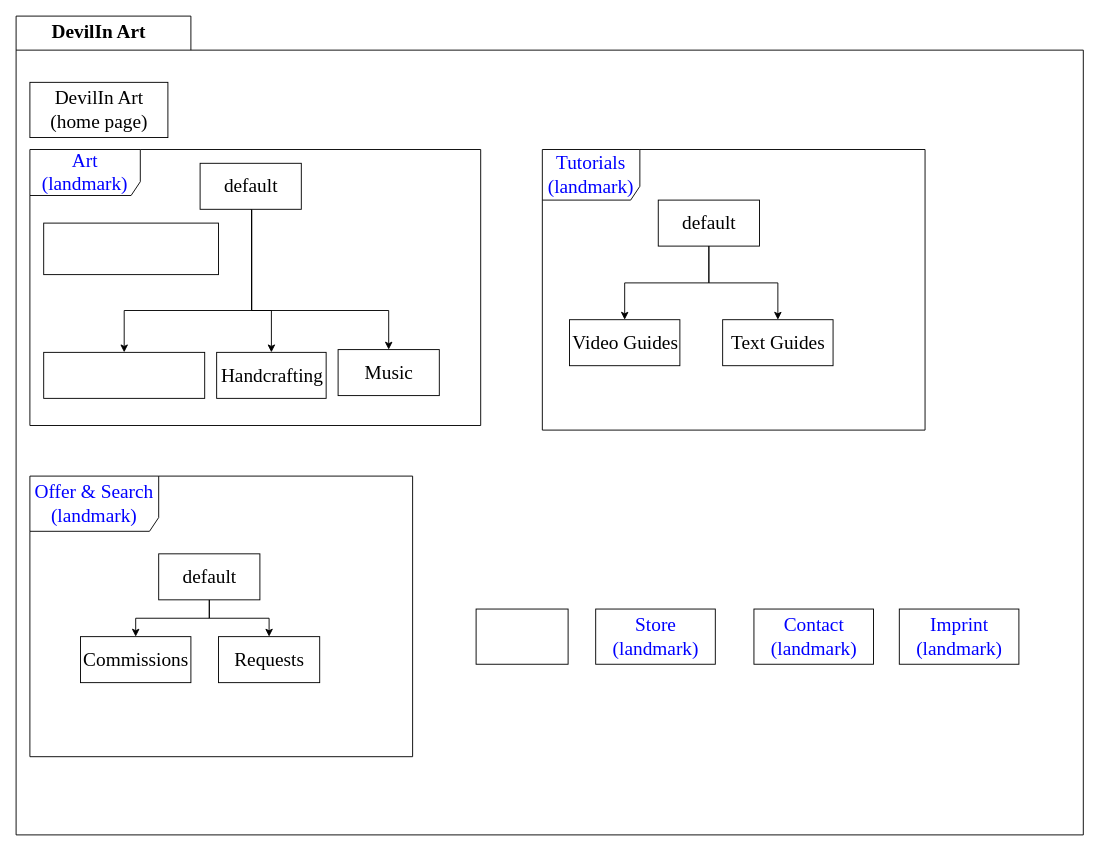
Some shapes in this 1099 by 851 pixel diagram are drawn without their labels. Here are the shapes that lost their labels. From the top down, the centre of each, then its label:
the point at 130,248: Rate Content (logged in users only)
the point at 124,374: Pictures/Animations
the point at 521,636: Forum (landmark)
